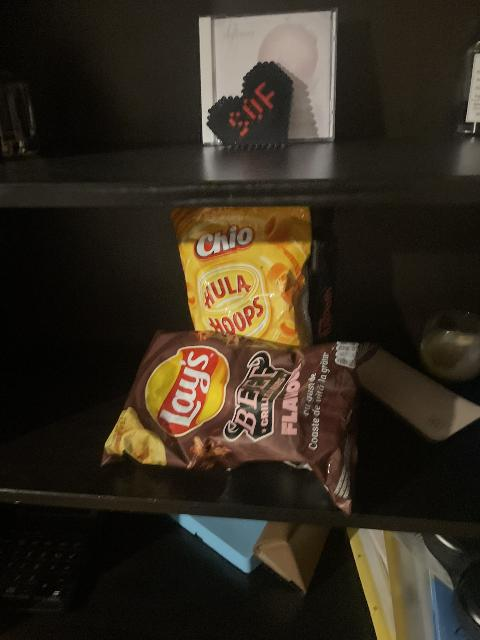Chio Hula Hoops Cheese 70g: (171, 206, 316, 346)
Lays Beef Grilled Ribs 125g: (107, 330, 372, 507)
